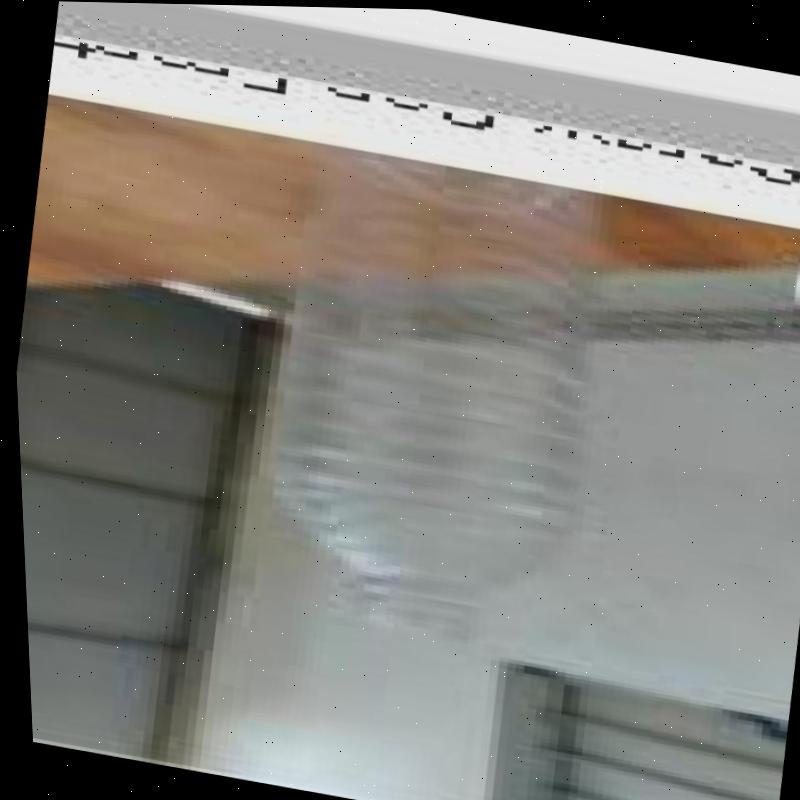botella: (235, 137, 655, 662)
